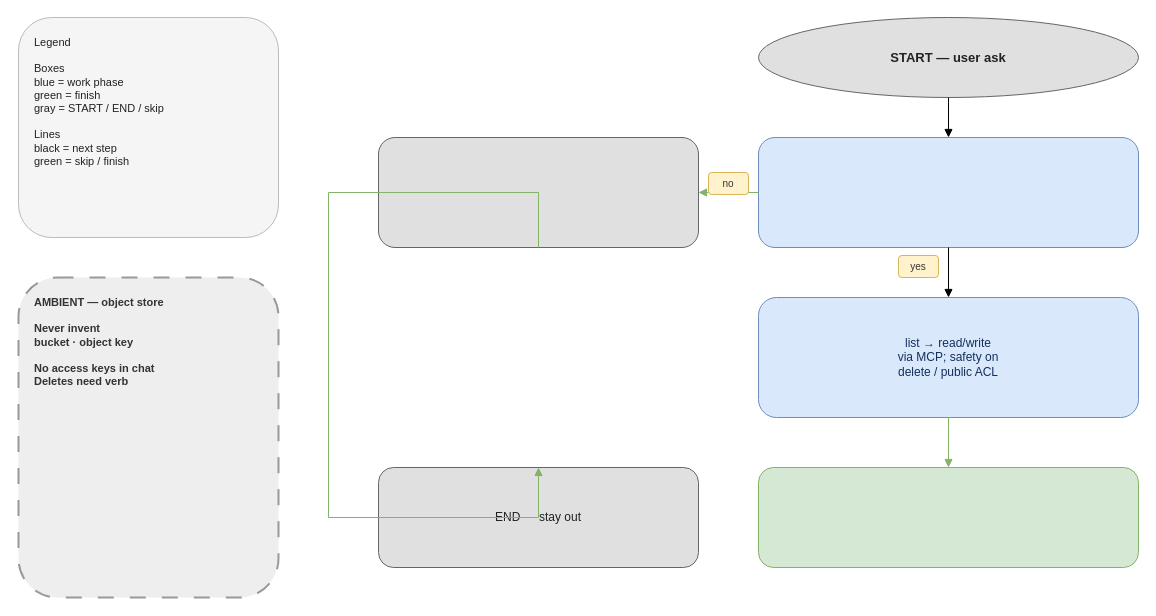
The diagram is 1156 pixels wide and 616 high, and some of its shapes have lost their labels. The centre of each missing label's shape, as x and y in pixels:
"END — bucket/key (no credentials)" goes at [948,517].
"gate · MinIO/S3? bucket / object ask" goes at [948,192].
"skip — no object store ordinary coding" goes at [538,192].
